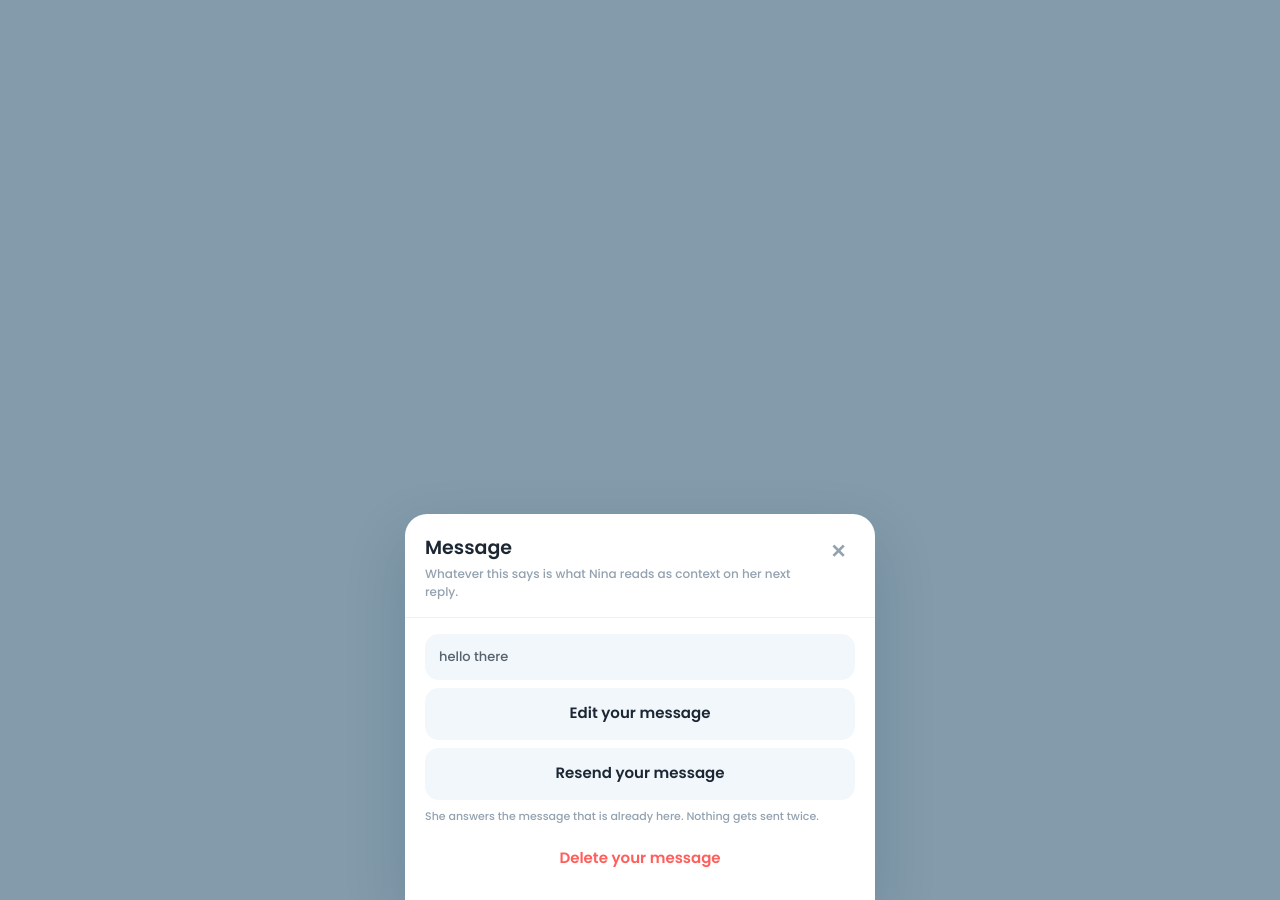
Test case: MessageActionsSheet › resending a confirmed message › shows the caller-authored refusal sentence and stays open
This screenshot has width=1280, height=900.
Click the button "Resend your message".
click(640, 774)  # box [425,748,855,800]
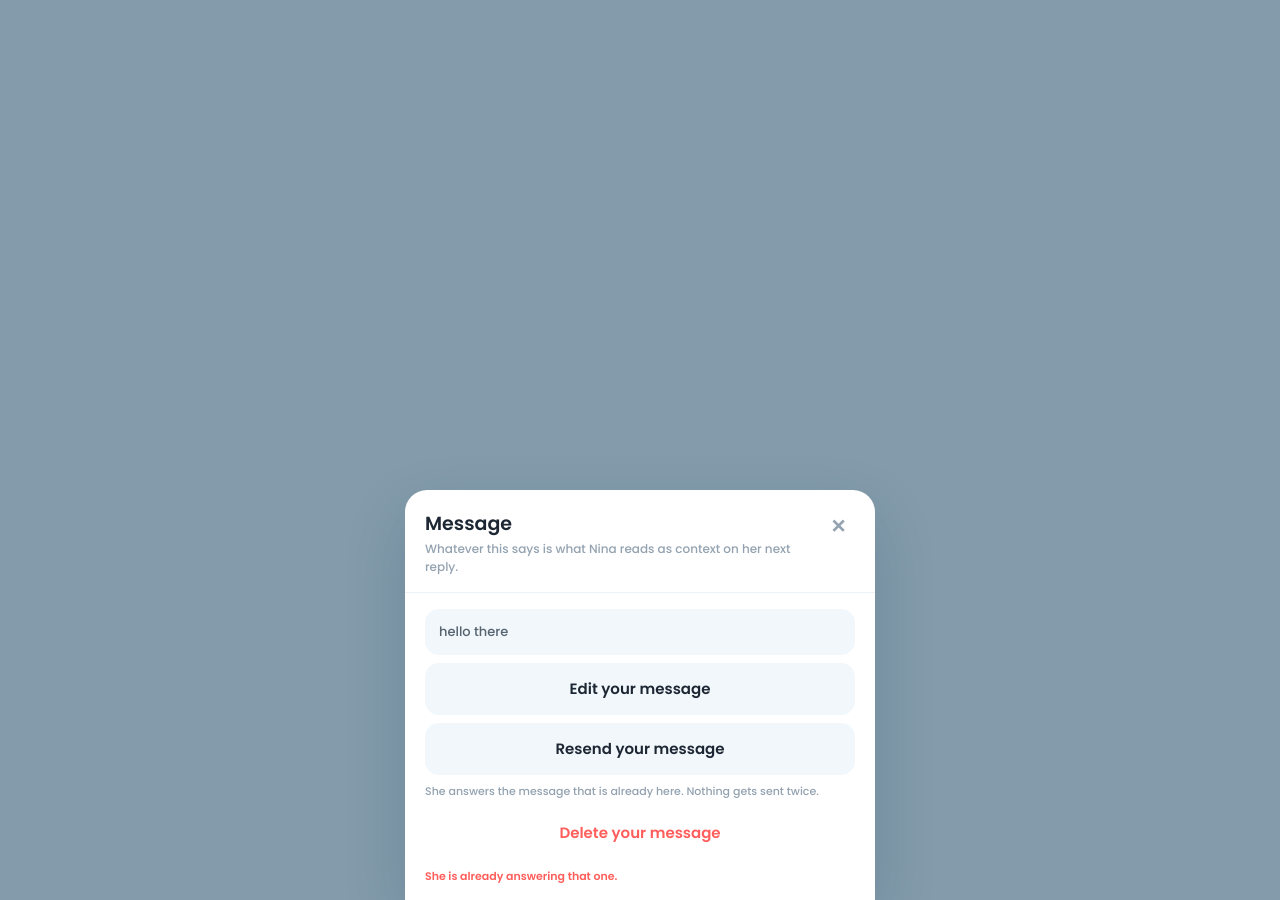
Expected: the text "She is already answering that one." is shown, [425,868,618,884]
